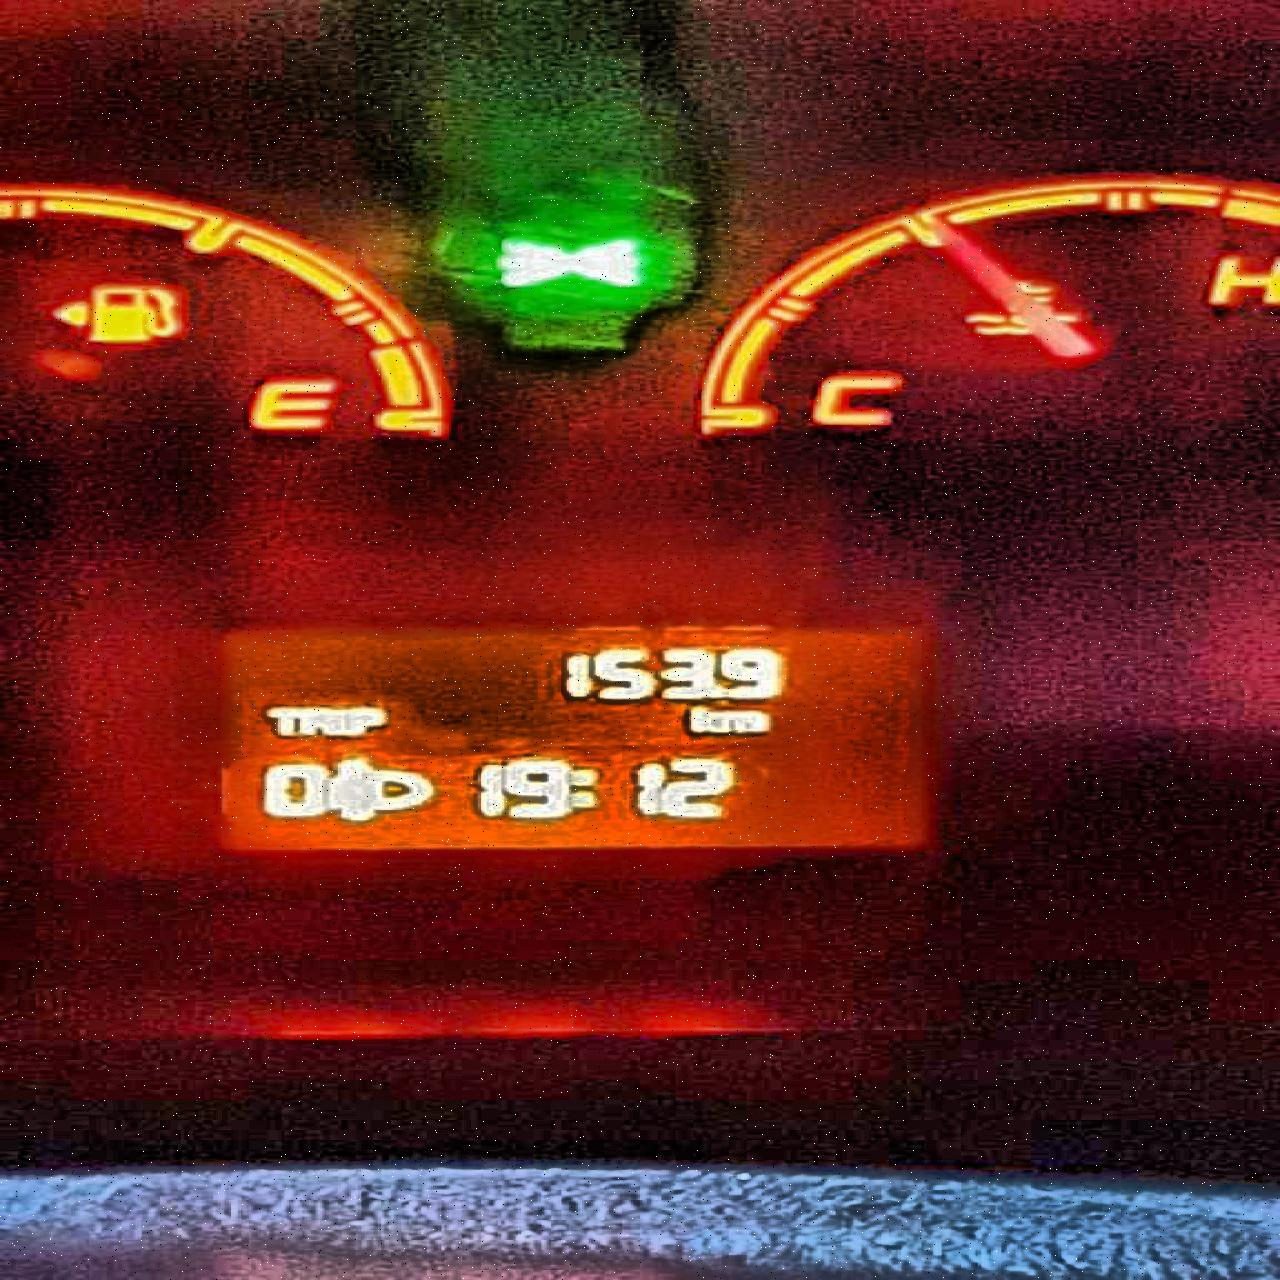-: (712, 682, 724, 702)
0: (260, 757, 329, 821)
1: (471, 757, 505, 821), (631, 757, 662, 817), (558, 648, 593, 701)
2: (665, 755, 731, 821)
3: (658, 644, 715, 700)
5: (591, 644, 653, 700)
9: (508, 751, 568, 821), (722, 644, 784, 699)
X: (719, 709, 769, 736), (295, 703, 332, 735), (568, 765, 593, 810), (352, 704, 387, 735), (685, 704, 717, 736), (265, 702, 295, 736), (333, 703, 349, 737)
odometer: (198, 612, 949, 863)
